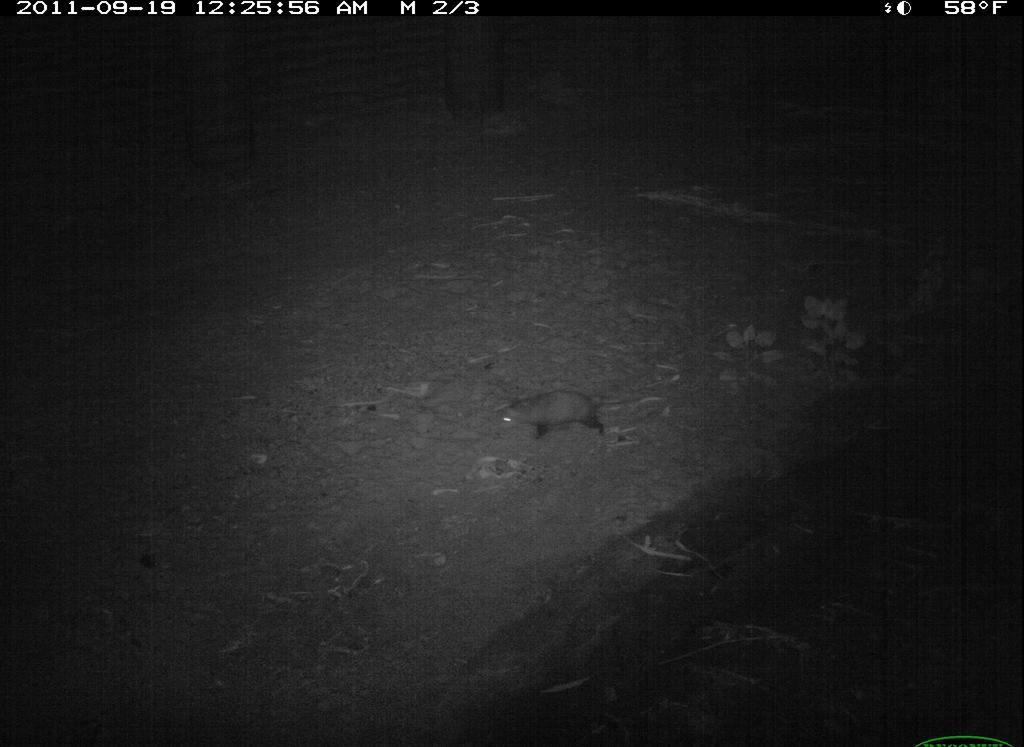opossum: (485, 386, 663, 444)
